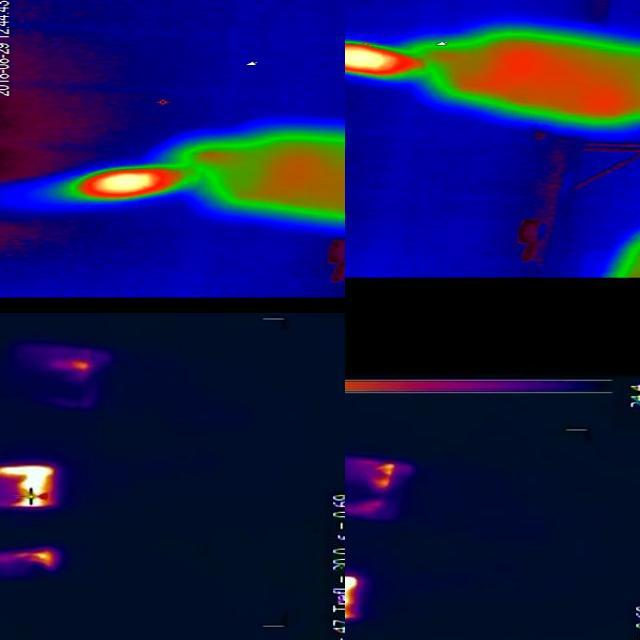fire: (63, 164, 191, 200), (346, 39, 426, 76), (1, 462, 62, 509), (1, 546, 60, 570), (346, 574, 365, 621)
